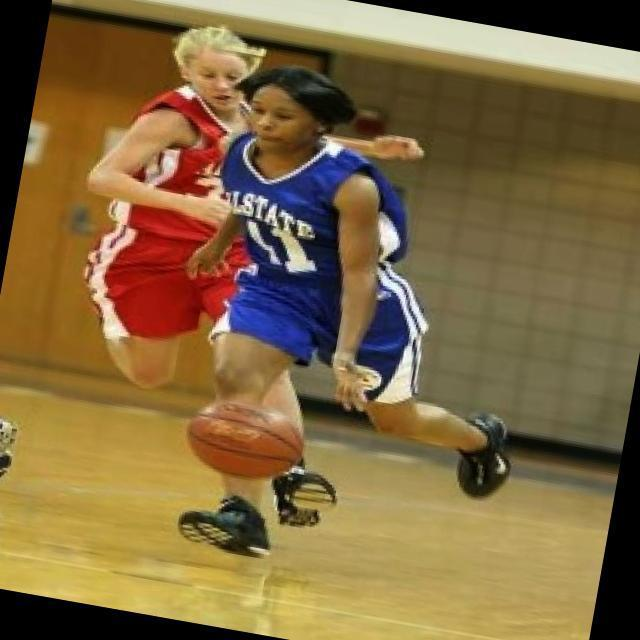ball: (176, 384, 315, 492)
